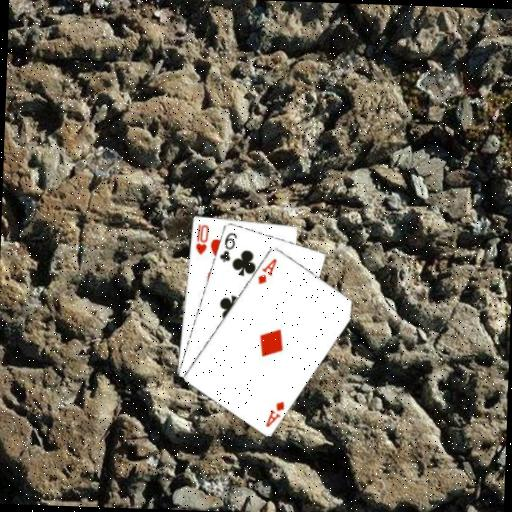10H: (192, 220, 210, 256)
6C: (216, 229, 239, 264)
AD: (261, 396, 286, 428), (254, 254, 279, 285)
